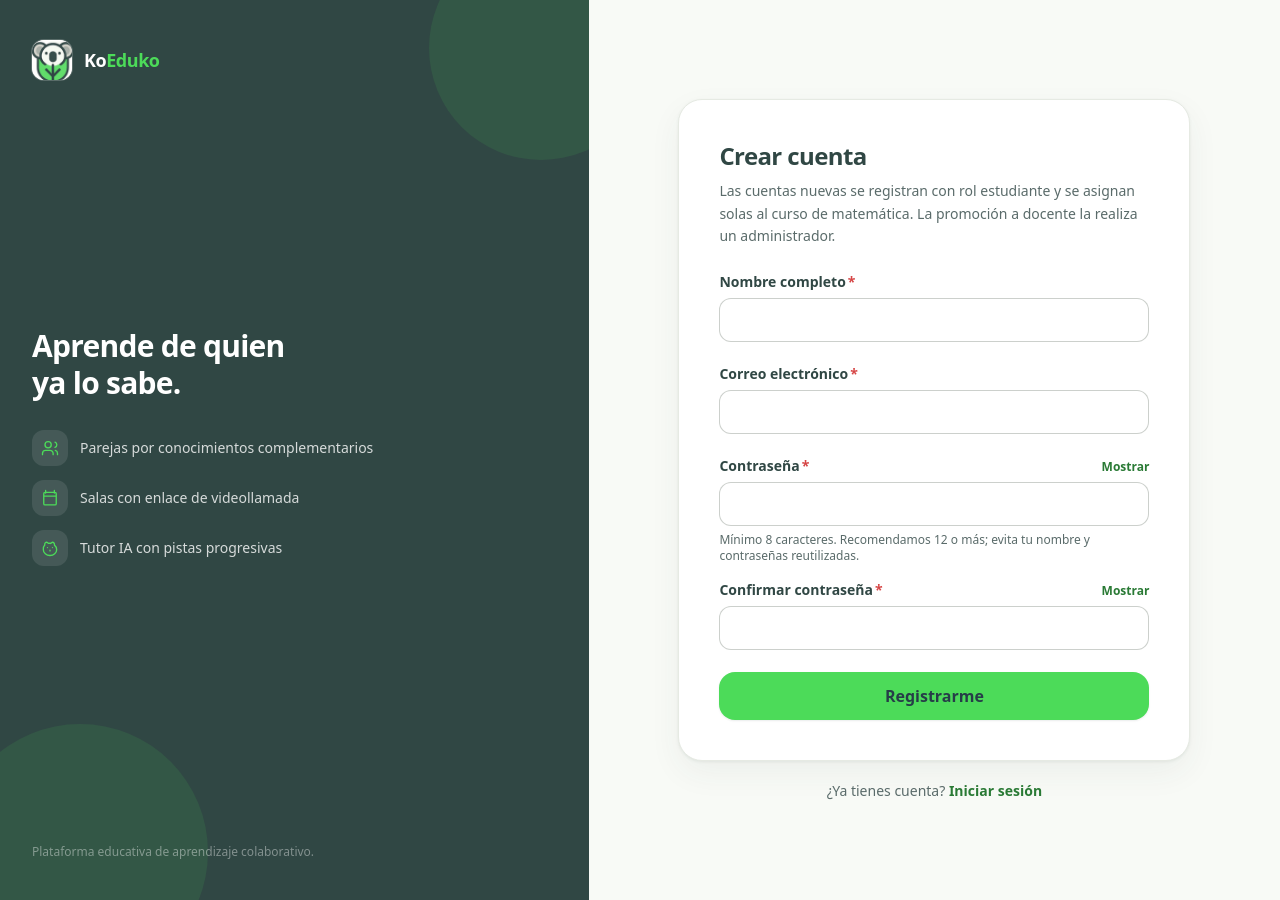
accesos de demostración › rechaza contraseñas cortas antes de crear la cuenta
Type "abc" into the password field labelled "Contraseña*" at coordinates (934, 504), box [719, 482, 1149, 526]
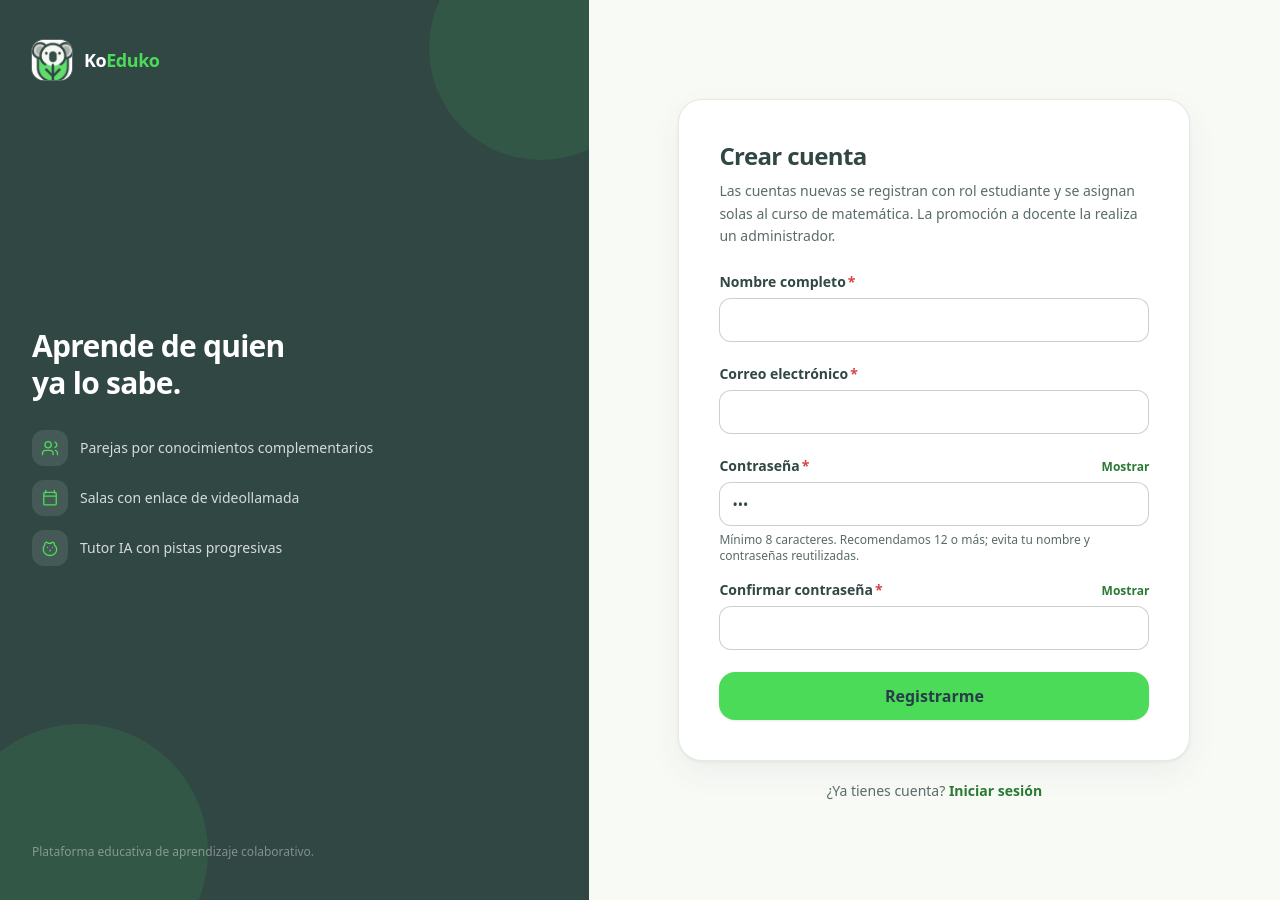
Type "abc" into the password field labelled "Confirmar contraseña*" at coordinates (934, 628), box [719, 606, 1149, 650]
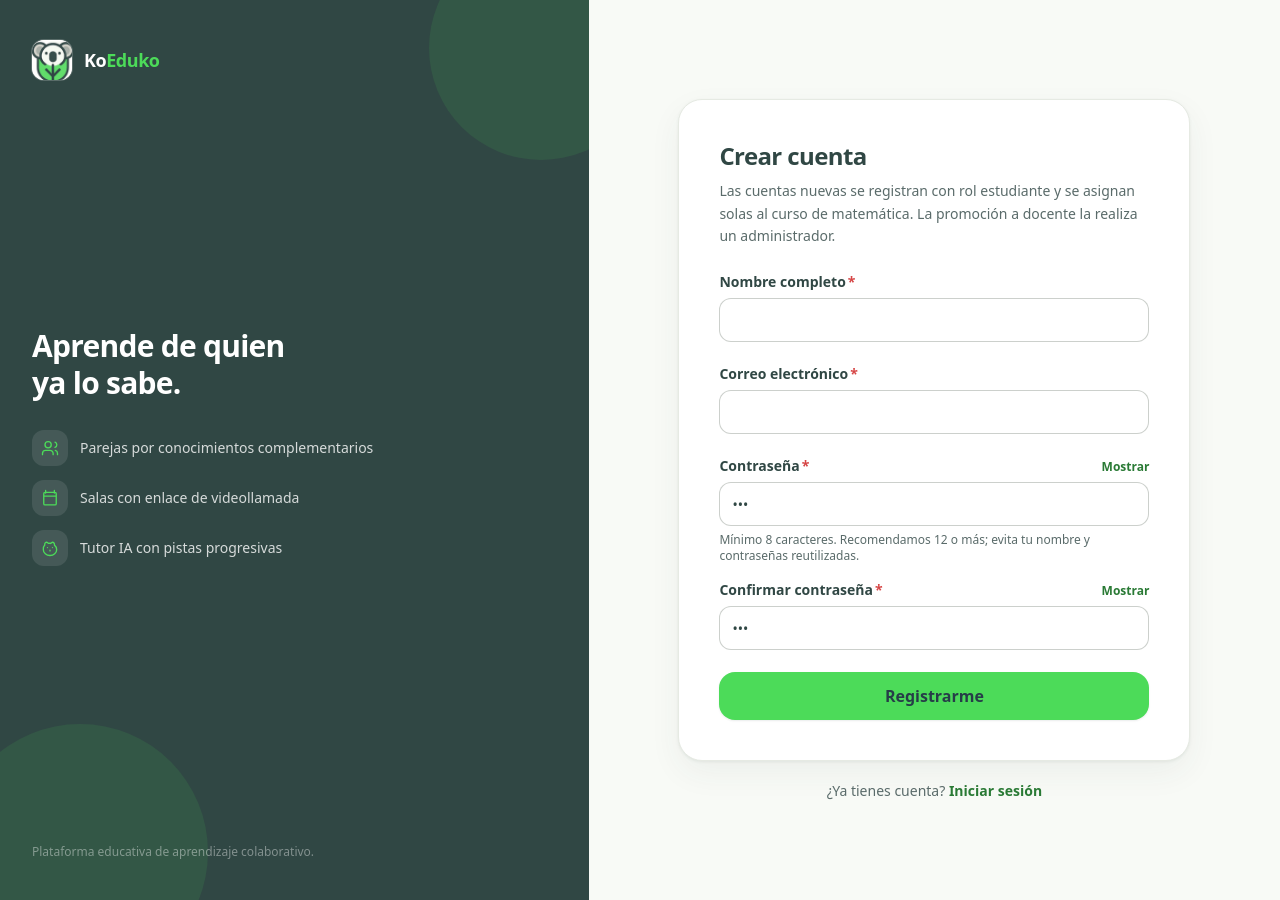
Submit the form named "Registrarme", box [719, 272, 1149, 720]
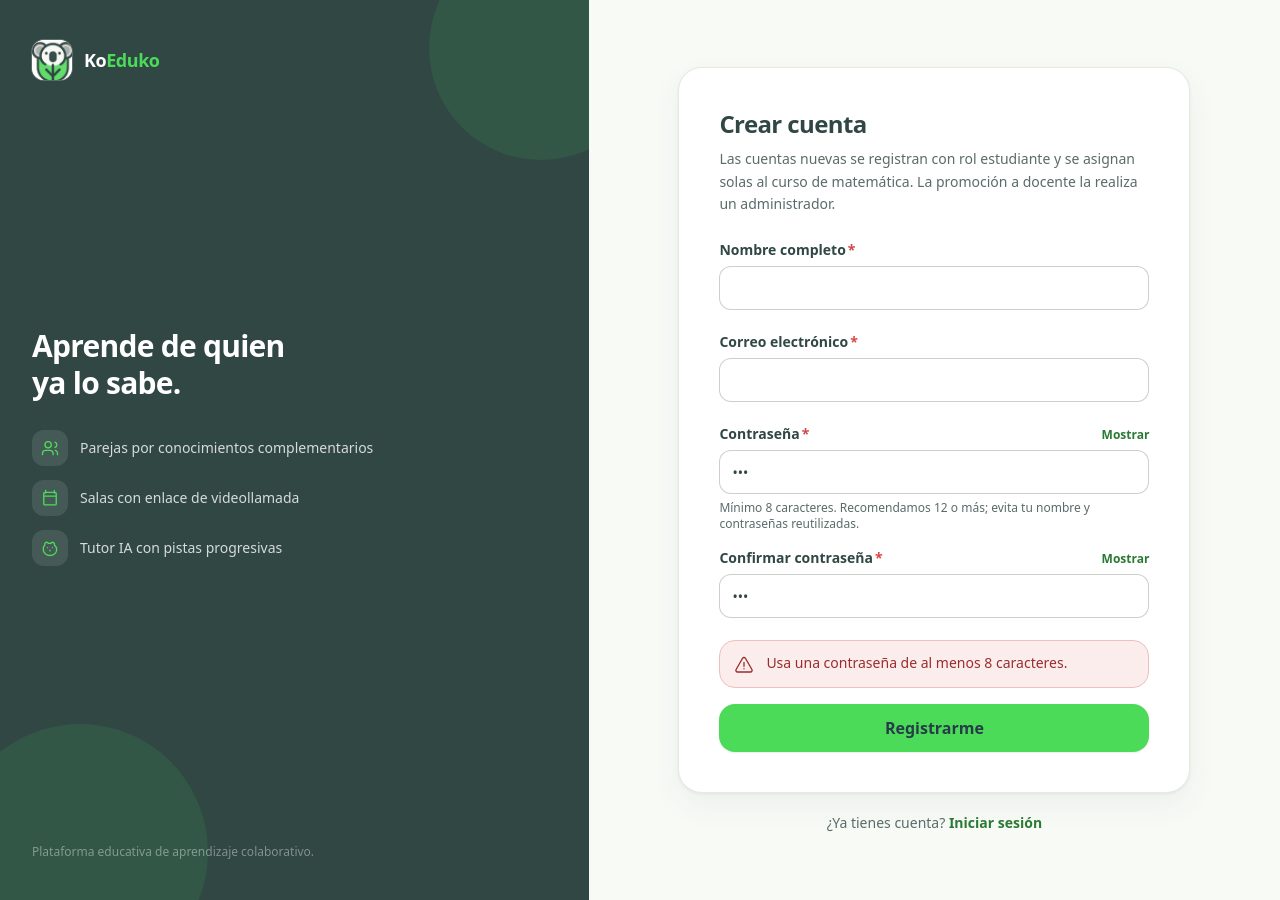
Now the text "Usa una contraseña de al menos 8 caracteres." is shown, box [766, 653, 1067, 672]
